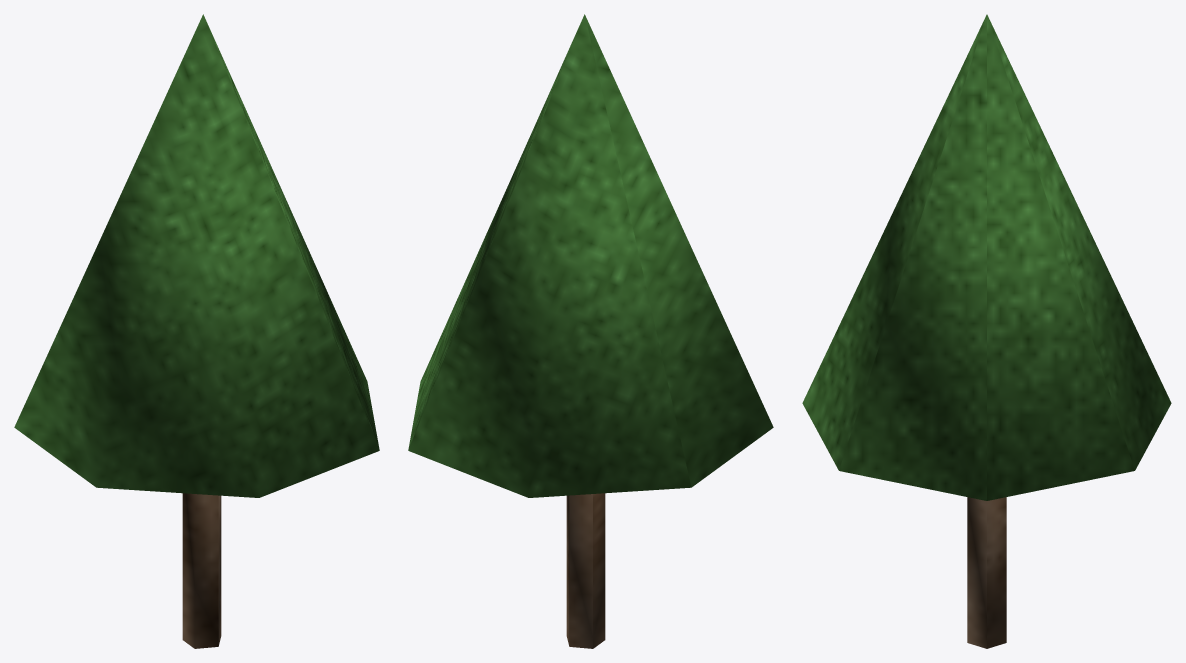
File: ambient_tree_19.glb
3 renders of one model, left to right at view 1: azimuth 30°, elevation 25°; view 2: azimuth 150°, elevation 25°; view 3: azimuth 270°, elevation 25°, orthographic.
Parts seen in each view (by area): view 1: ambient_tree_19; view 2: ambient_tree_19; view 3: ambient_tree_19.
Boxes of the visible parts, x1=… form: ambient_tree_19: x1=14, y1=14, x2=379, y2=648; ambient_tree_19: x1=408, y1=14, x2=773, y2=648; ambient_tree_19: x1=802, y1=14, x2=1171, y2=648.
Size of the model in its own units: 1.05 by 2.01 by 1.07.
2 materials, 2 textured.
